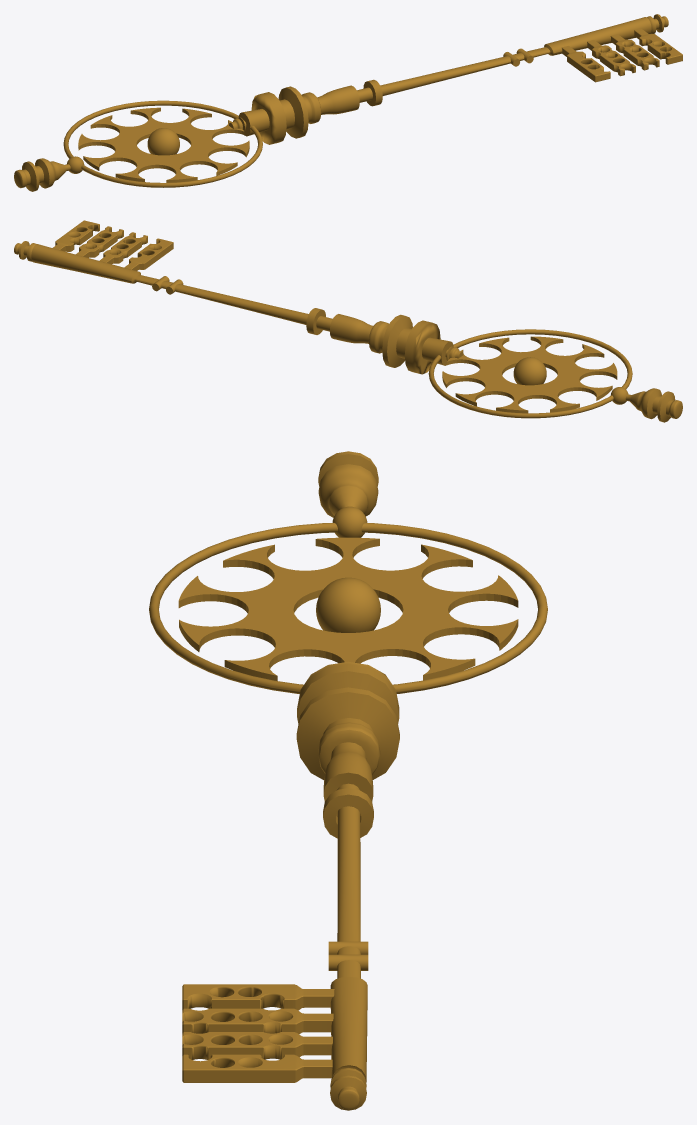
Rendered from Ocular_Key.glb.
The picture shows the model from 3 angles, top to bottom: view 1: azimuth 30°, elevation 25°; view 2: azimuth 150°, elevation 25°; view 3: azimuth 270°, elevation 25°; orthographic projection. The views are drawn at different scales.
Visible parts, largest first — view 1: Cube.035, BezierCircle; view 2: Cube.035, BezierCircle; view 3: Cube.035, BezierCircle.
Boxes of the visible parts, x1=… form: Cube.035: x1=14, y1=14, x2=682, y2=191; BezierCircle: x1=78, y1=107, x2=249, y2=182; Cube.035: x1=14, y1=220, x2=682, y2=422; BezierCircle: x1=442, y1=336, x2=617, y2=413; Cube.035: x1=149, y1=451, x2=547, y2=1110; BezierCircle: x1=178, y1=537, x2=518, y2=680.
Size of the model in its own units: 39.08 by 2.69 by 10.4.
